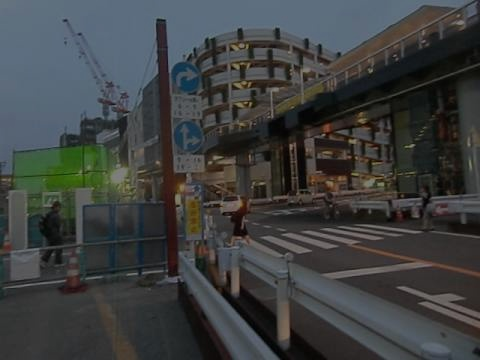Direction_sign: (168, 118, 206, 155), (170, 60, 205, 93)
